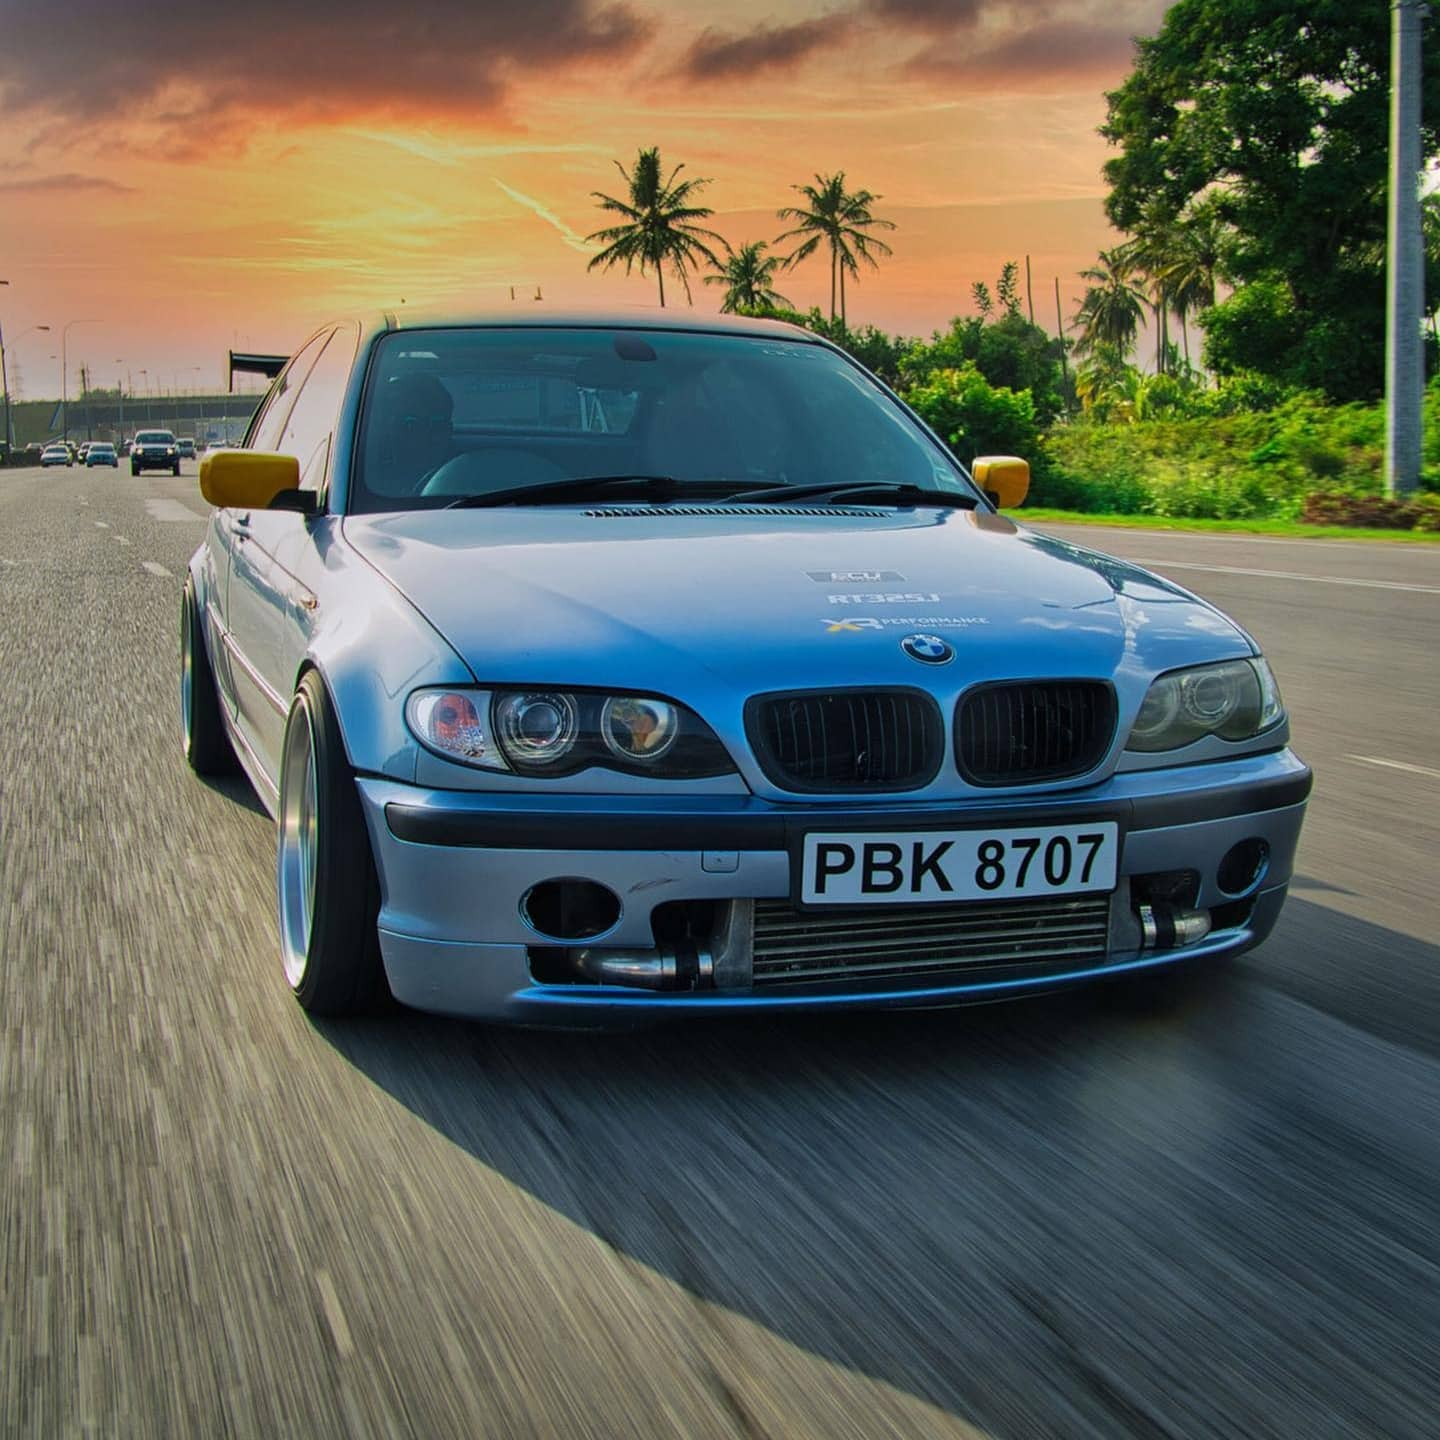License-Plate: (804, 834, 1112, 900)
